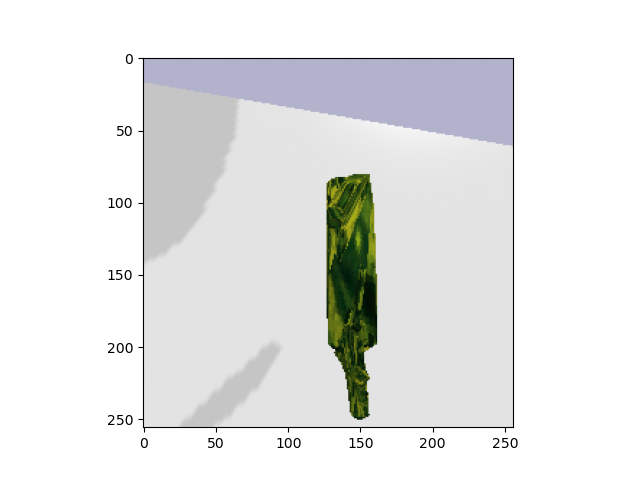v249b387_108: (315, 169, 394, 423)
